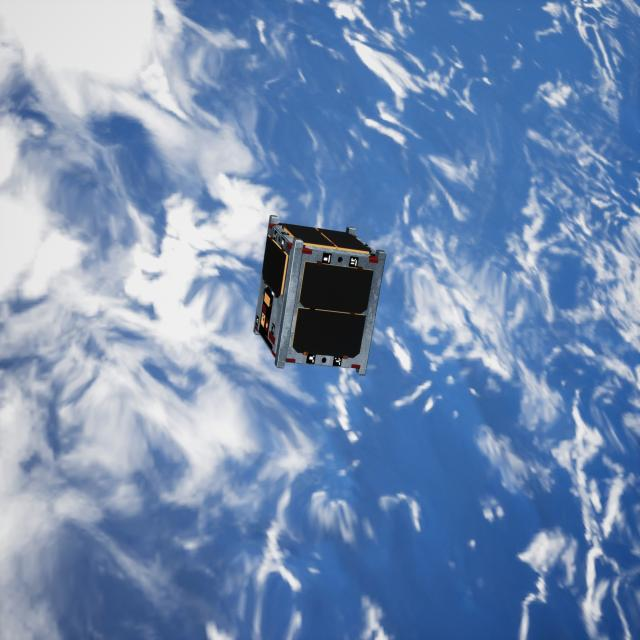medium_debris: (250, 212, 384, 366)
